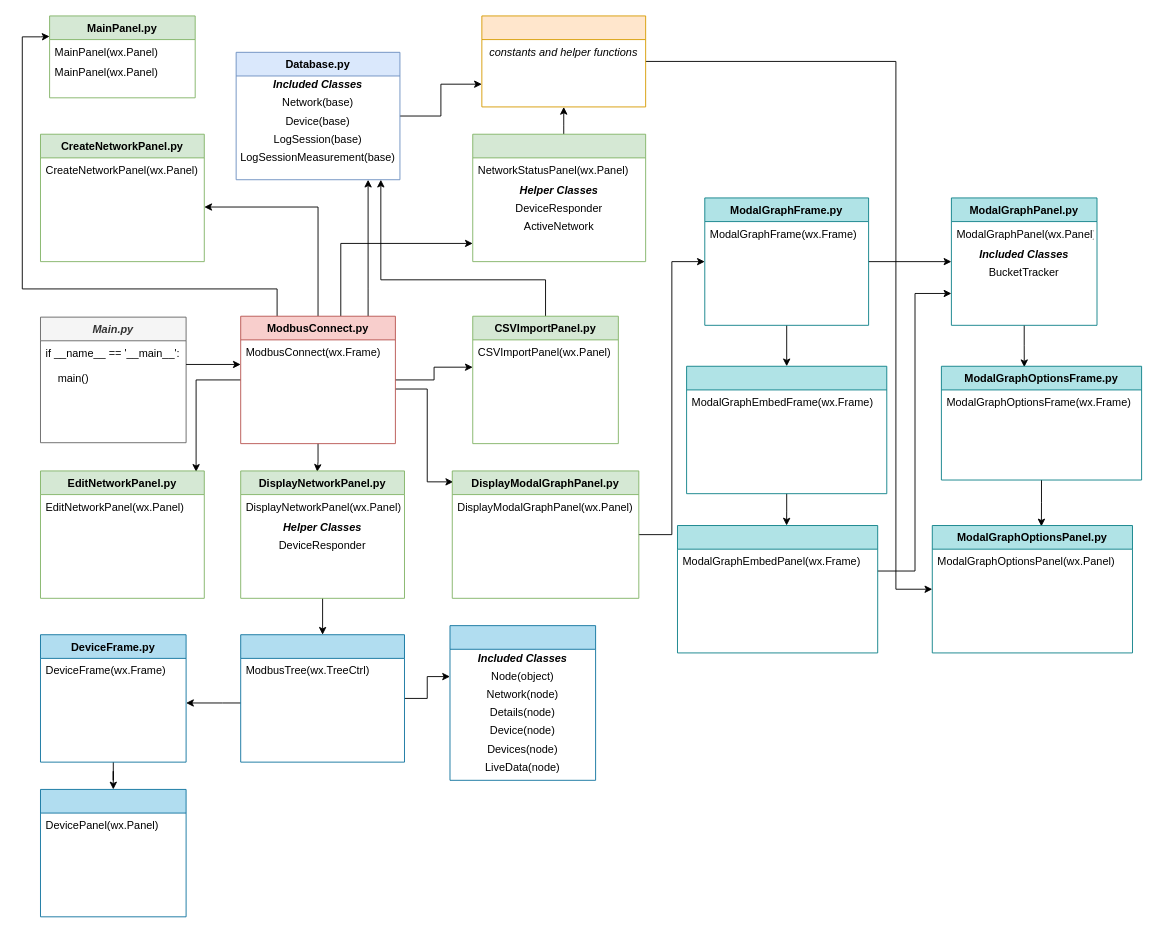
Some shapes in this 1158 by 933 pixel diagram are drawn without their labels. Here are the shapes that lost their labels. From the top down, the box of each, then its label:
(481, 15, 646, 107): Utilities.py
(472, 133, 646, 262): NetworkStatusPanel.py
(686, 365, 887, 494): ModalGraphEmbedFrame.py
(677, 525, 878, 653): ModalGraphEmbedPanel.py
(240, 634, 404, 762): ModbusTree.py
(449, 625, 596, 780): ModbusTreeNodes.py
(40, 789, 186, 917): DevicePanel.py
